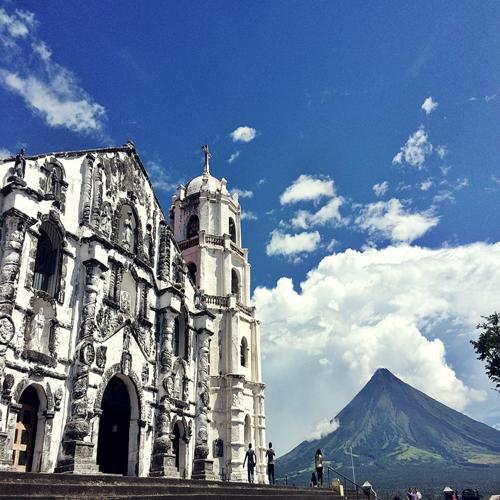Daraga Church: (2, 116, 275, 486)
